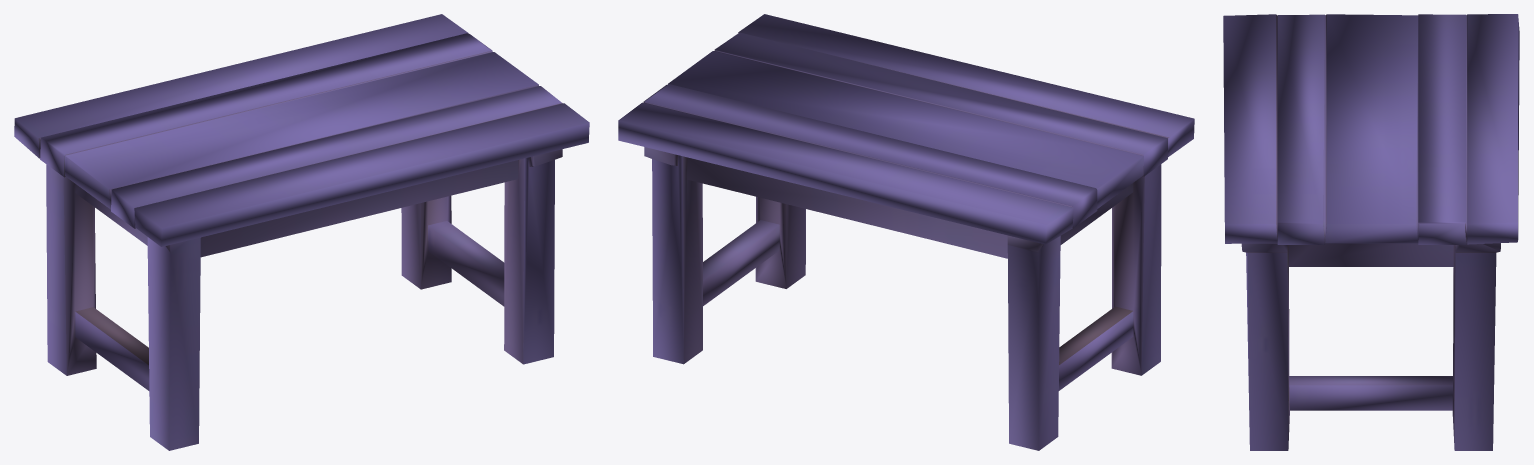
The model's file is model.progressive.glb.
3 views of the same model, side by side, from view 1: azimuth 30°, elevation 25°; view 2: azimuth 150°, elevation 25°; view 3: azimuth 270°, elevation 25° (orthographic).
Parts seen in each view (by area): view 1: mesh_input; view 2: mesh_input; view 3: mesh_input.
Boxes of the visible parts, x1,y1,x2,y2 form: mesh_input: (14, 14, 589, 450); mesh_input: (618, 14, 1194, 450); mesh_input: (1223, 14, 1519, 450).
Size of the model in its own units: 1.89 by 1.01 by 1.13.
1 material, 1 textured.
